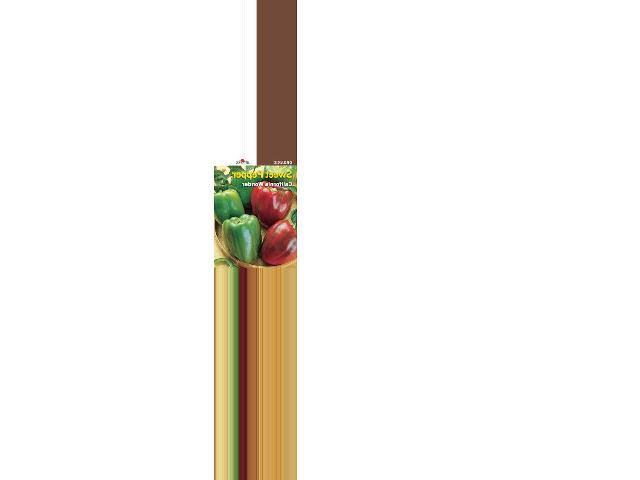bell_pepper: (212, 185, 241, 229)
